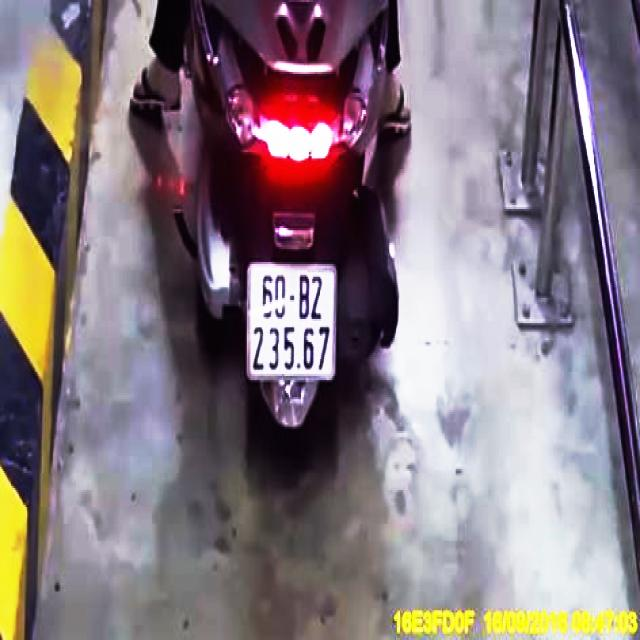license_plate: (250, 264, 336, 377)
